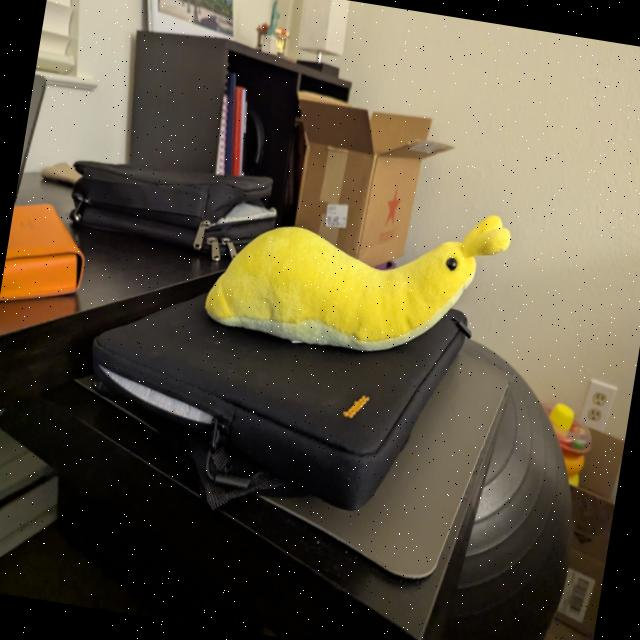banana-slug-toy: (200, 172, 522, 378)
